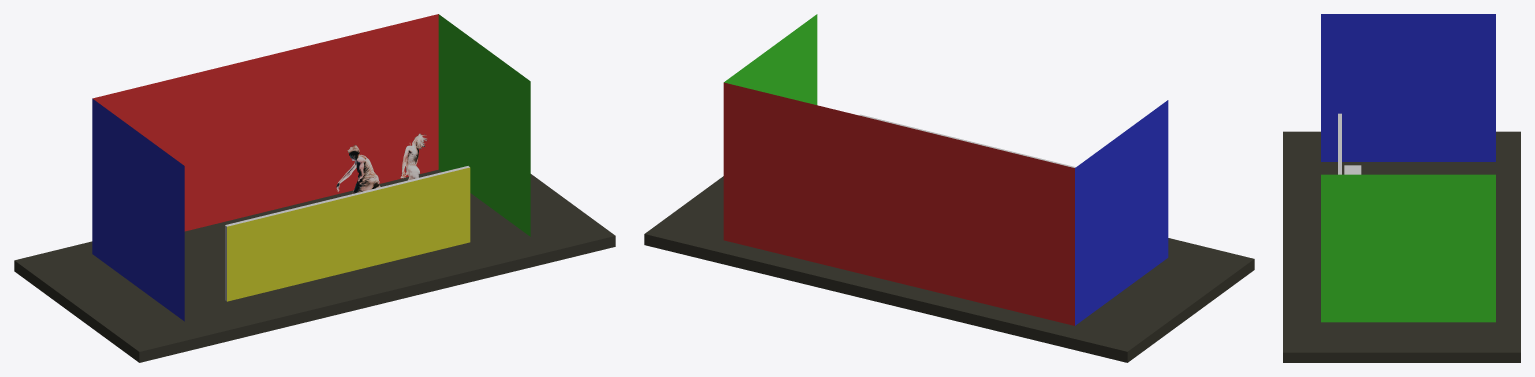
The model's file is sunline v9.dae.
The picture shows the model from 3 angles, left to right: view 1: azimuth 30°, elevation 25°; view 2: azimuth 150°, elevation 25°; view 3: azimuth 270°, elevation 25°; orthographic projection. The views are drawn at different scales.
Visible parts, largest first — view 1: front, floor, desktop, left, right, cutout1, deskbase, cutout2; view 2: front, floor, left, right; view 3: right, left, floor, deskbase.
Boxes of the visible parts, <box> form: front: <box>92,14,438,231</box>; floor: <box>14,169,615,362</box>; desktop: <box>227,167,470,301</box>; left: <box>92,98,184,321</box>; right: <box>438,14,530,236</box>; cutout1: <box>336,145,380,193</box>; deskbase: <box>225,166,469,301</box>; cutout2: <box>400,133,426,180</box>; front: <box>723,82,1074,325</box>; floor: <box>644,176,1254,362</box>; left: <box>1075,100,1168,325</box>; right: <box>724,14,817,104</box>; right: <box>1321,174,1495,322</box>; left: <box>1321,14,1495,161</box>; floor: <box>1283,131,1520,362</box>; deskbase: <box>1338,113,1341,174</box>.
Size of the model in its own units: 19.15 by 6.4 by 8.72.
Materials: 8 (2 with a texture image).
